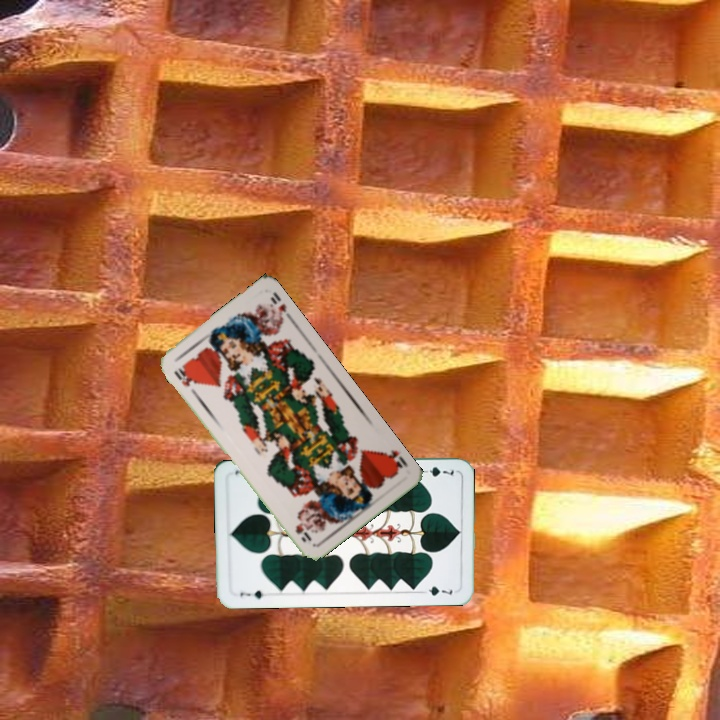G7: (417, 463, 456, 479), (236, 587, 271, 601)
HO: (378, 446, 405, 476), (170, 362, 198, 389)
